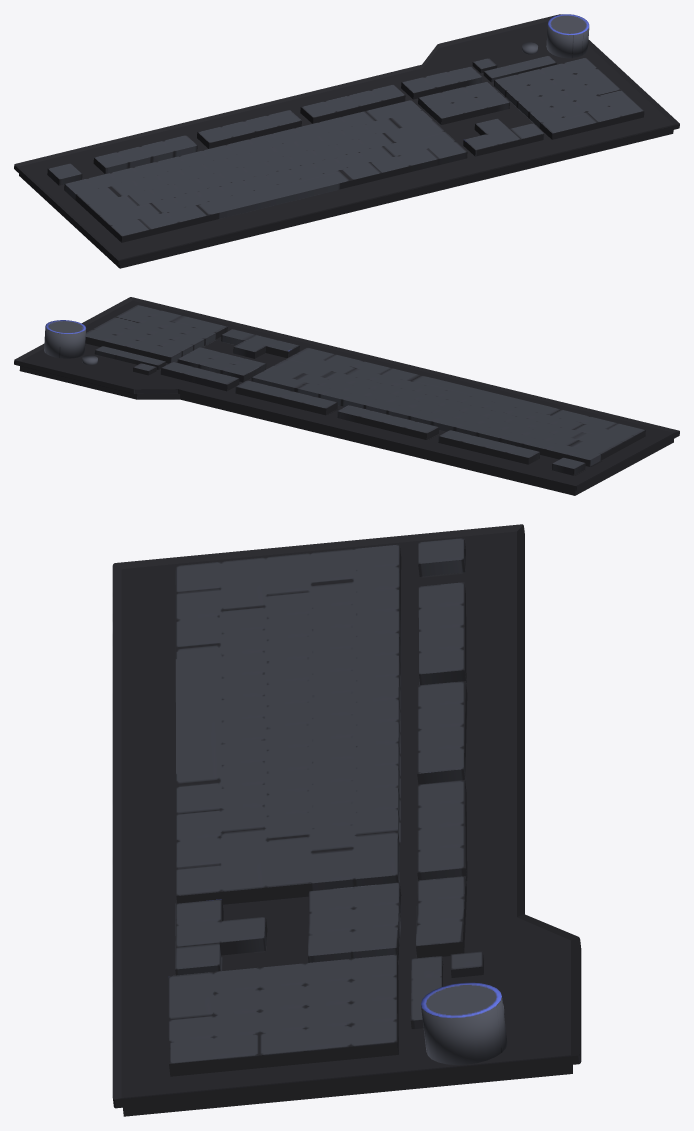
File: Computer Keyboard High Res.fbx
The picture shows the model from 3 angles, top to bottom: view 1: azimuth 30°, elevation 25°; view 2: azimuth 150°, elevation 25°; view 3: azimuth 270°, elevation 25°; orthographic projection. The views are drawn at different scales.
Parts seen in each view (by area): view 1: Keyboard base.001; view 2: Keyboard base.001; view 3: Keyboard base.001.
Part boxes in pixels (<box>): Keyboard base.001: <box>14,14,679,268</box>; Keyboard base.001: <box>14,297,679,495</box>; Keyboard base.001: <box>112,524,581,1116</box>.
Bounding box in the file's own units: 486 × 43.38 × 179.
